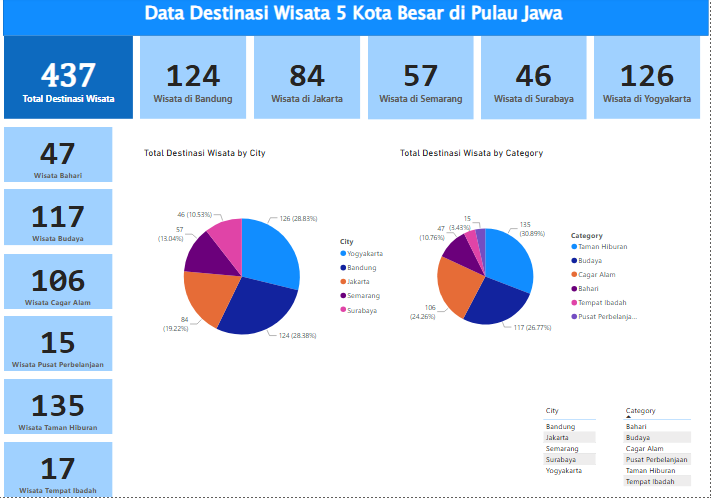

The page's visual inventory and layout, read from the dashboard file:
{"tool":"powerbi","page":{"name":"Halaman 1","canvas":[1280,900],"ordinal":0},"visuals":[{"type":"shape","box":[9.4,0,1269.9,69.9],"z":0},{"type":"textbox","box":[0,0,1279.4,69.9],"z":1000},{"type":"tableEx","fields":{"Values":["package_tourism.City"]},"box":[975.3,728.9,144.9,171.9],"z":2000},{"type":"tableEx","fields":{"Values":["tourism_with_id.Category"]},"box":[1120.2,728.9,159.4,171.9],"z":2001},{"type":"card","fields":{"Values":["package_tourism.Wisata di Bandung"]},"box":[256.1,69.9,190.9,149.3],"z":2002},{"type":"card","fields":{"Values":["package_tourism.Wisata di Jakarta"]},"box":[460.9,69.9,190.9,149.3],"z":2003},{"type":"card","fields":{"Values":["package_tourism.Wisata di Semarang"]},"box":[665.6,69.9,190,150],"z":2004},{"type":"card","fields":{"Values":["package_tourism.Wisata di Surabaya"]},"box":[869.5,69.9,190,150],"z":2005},{"type":"card","fields":{"Values":["package_tourism.Wisata di Yogyakarta"]},"box":[1073.4,69.9,190.9,149.3],"z":2006},{"type":"card","fields":{"Values":["package_tourism.Wisata Tempat Ibadah"]},"box":[10.4,800.6,194.6,99.4],"z":2007},{"type":"card","fields":{"Values":["package_tourism.Wisata Taman Hiburan"]},"box":[10.4,688.1,194.6,99.4],"z":2008},{"type":"card","fields":{"Values":["package_tourism.Wisata Pusat Perbelanjaan"]},"box":[10.4,574.9,194.6,99.4],"z":2009},{"type":"card","fields":{"Values":["package_tourism.Wisata Budaya"]},"box":[10.4,346.5,194.6,101.5],"z":2010},{"type":"card","fields":{"Values":["package_tourism.Wisata Bahari"]},"box":[10.4,233.3,194.6,99.4],"z":2011},{"type":"card","fields":{"Values":["package_tourism.Wisata Cagar Alam"]},"box":[10.4,461.7,194.6,99.4],"z":2012},{"type":"card","fields":{"Values":["package_tourism.Total Destinasi Wisata"]},"box":[10.4,70.4,231.9,149.1],"z":2013},{"type":"pieChart","fields":{"Category":["tourism_with_id.City"],"Y":["package_tourism.Total Destinasi Wisata"]},"box":[256.8,269.2,450,445],"z":2014},{"type":"pieChart","fields":{"Y":["package_tourism.Total Destinasi Wisata"],"Category":["tourism_with_id.Category"]},"box":[718.5,269.2,450,445],"z":2015}]}

Visuals, with their boxes in screenshot pixels (x1, y1, x2, y2), scaled from the page's 1280x900 canvas onto the 711x498 screenshot:
shape: pyautogui.locateOnScreen(5, 0, 710, 39)
textbox: pyautogui.locateOnScreen(0, 0, 710, 39)
tableEx - package_tourism.City: pyautogui.locateOnScreen(542, 403, 622, 497)
tableEx - tourism_with_id.Category: pyautogui.locateOnScreen(622, 403, 710, 497)
card - package_tourism.Wisata di Bandung: pyautogui.locateOnScreen(142, 39, 248, 121)
card - package_tourism.Wisata di Jakarta: pyautogui.locateOnScreen(256, 39, 362, 121)
card - package_tourism.Wisata di Semarang: pyautogui.locateOnScreen(370, 39, 475, 122)
card - package_tourism.Wisata di Surabaya: pyautogui.locateOnScreen(483, 39, 589, 122)
card - package_tourism.Wisata di Yogyakarta: pyautogui.locateOnScreen(596, 39, 702, 121)
card - package_tourism.Wisata Tempat Ibadah: pyautogui.locateOnScreen(6, 443, 114, 497)
card - package_tourism.Wisata Taman Hiburan: pyautogui.locateOnScreen(6, 381, 114, 436)
card - package_tourism.Wisata Pusat Perbelanjaan: pyautogui.locateOnScreen(6, 318, 114, 373)
card - package_tourism.Wisata Budaya: pyautogui.locateOnScreen(6, 192, 114, 248)
card - package_tourism.Wisata Bahari: pyautogui.locateOnScreen(6, 129, 114, 184)
card - package_tourism.Wisata Cagar Alam: pyautogui.locateOnScreen(6, 255, 114, 310)
card - package_tourism.Total Destinasi Wisata: pyautogui.locateOnScreen(6, 39, 135, 121)
pieChart - tourism_with_id.City x package_tourism.Total Destinasi Wisata: pyautogui.locateOnScreen(143, 149, 393, 395)
pieChart - package_tourism.Total Destinasi Wisata x tourism_with_id.Category: pyautogui.locateOnScreen(399, 149, 649, 395)
